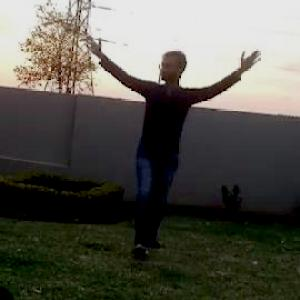takeoff: (86, 31, 276, 250)
